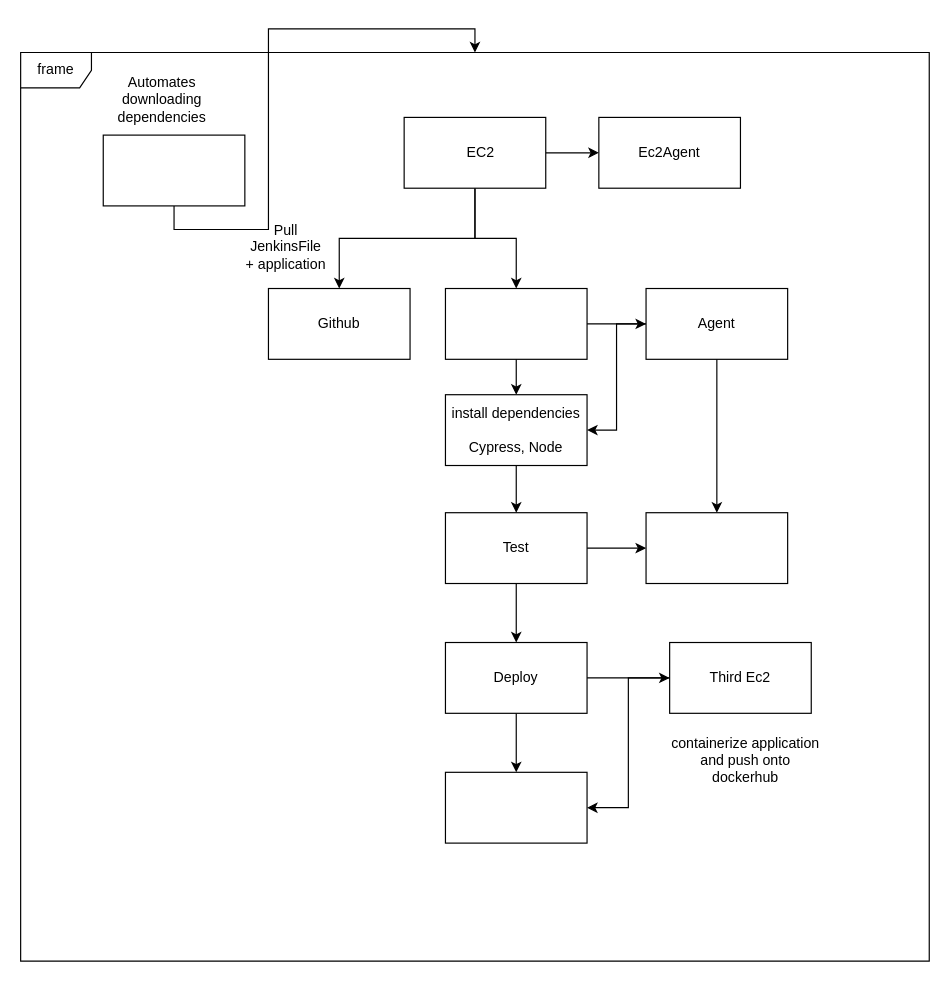
This 950x982 diagram has some shape labels left out. The centre of each missing label's shape, as x and y in pixels:
"Ansible" goes at (x=173, y=170).
"Build" goes at (x=515, y=323).
"DockerHub" goes at (x=515, y=807).
"Run tests" goes at (x=716, y=548).
